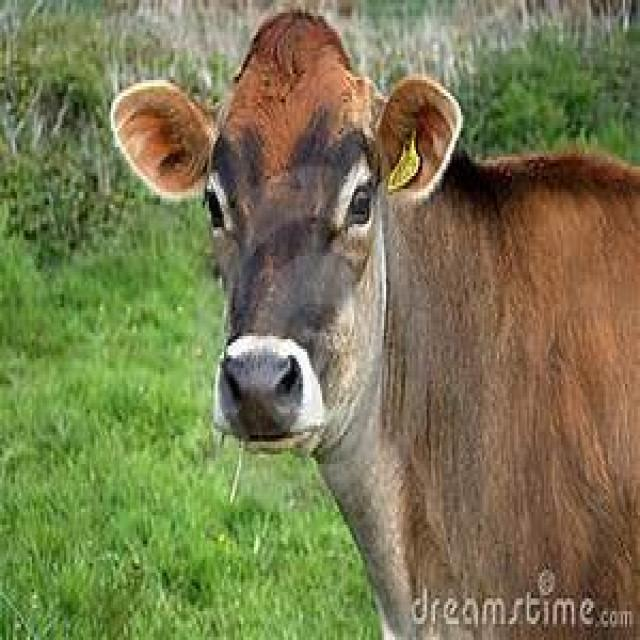animal: (111, 8, 640, 640)
